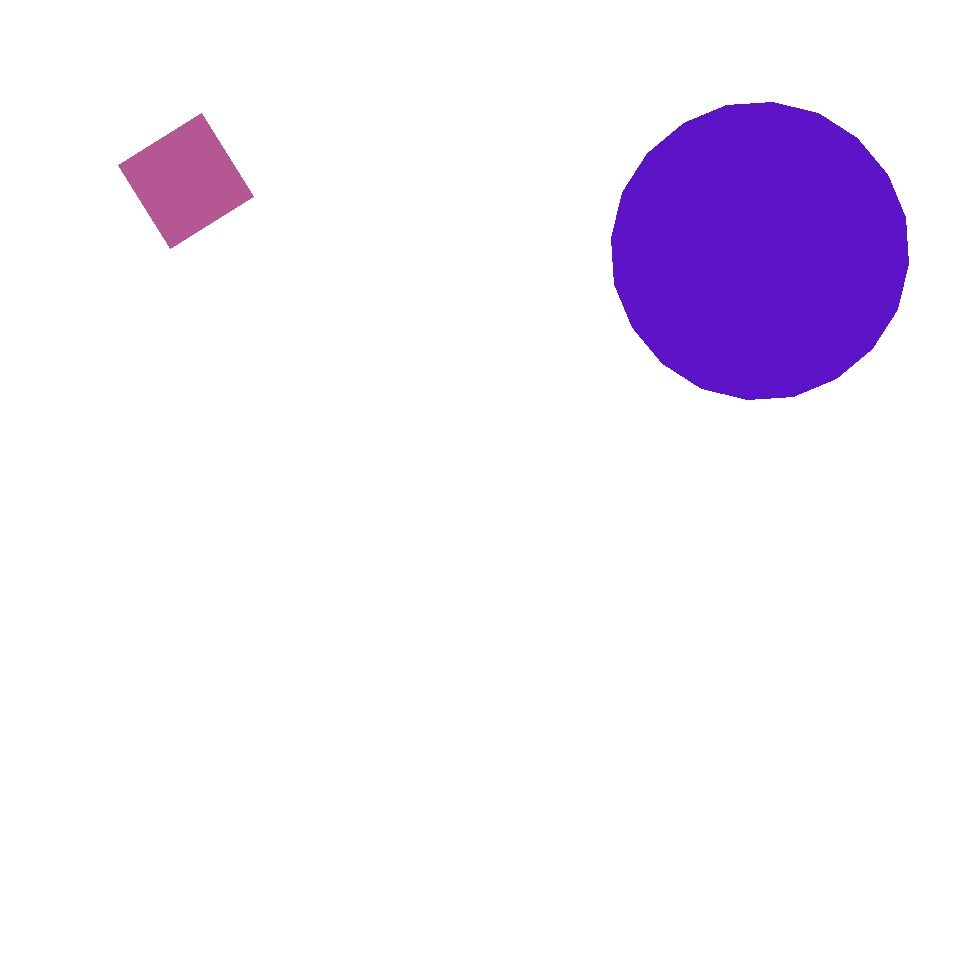circle: (517, 277, 659, 401)
square: (46, 387, 264, 606), (118, 114, 253, 248)
triangle: (612, 103, 908, 400)
